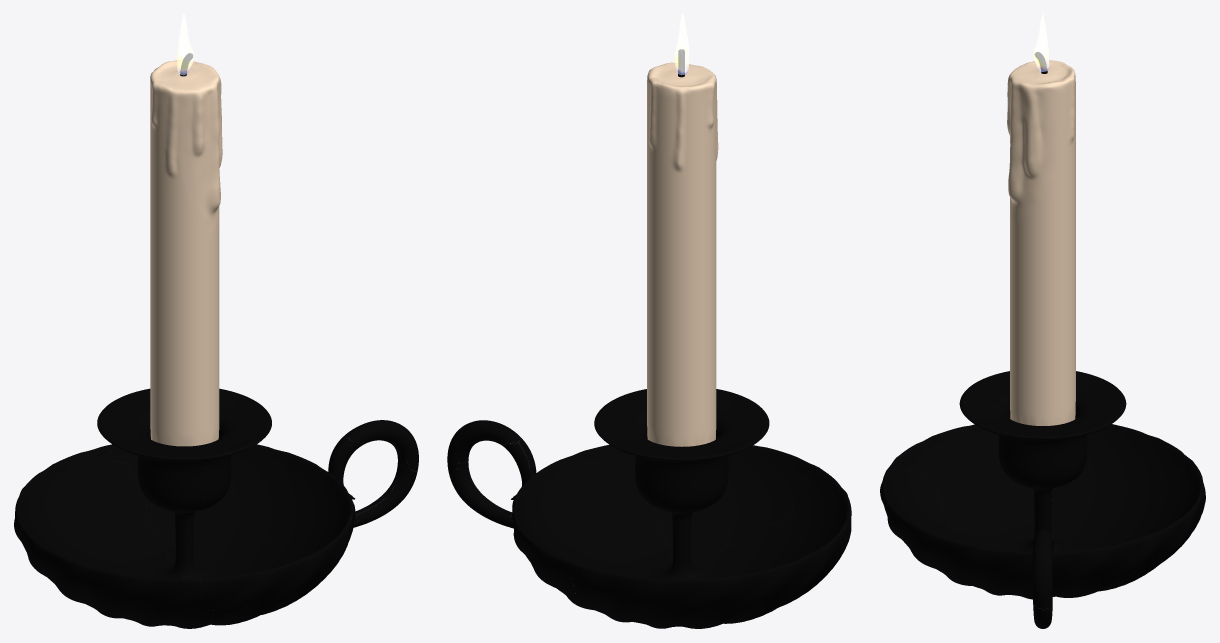
File: Candle.glb
The picture shows the model from 3 angles, left to right: view 1: azimuth 30°, elevation 25°; view 2: azimuth 150°, elevation 25°; view 3: azimuth 270°, elevation 25°; orthographic projection. The views are drawn at different scales.
Visible parts, largest first — view 1: Object_7, Object_3, Object_6, Object_4; view 2: Object_7, Object_3, Object_6, Object_4; view 3: Object_7, Object_3, Object_6, Object_4.
Boxes of the visible parts, left/top/right/bottom form: Object_7: left=14, top=388, right=355, bottom=628; Object_3: left=150, top=60, right=222, bottom=446; Object_6: left=328, top=420, right=418, bottom=527; Object_4: left=177, top=14, right=194, bottom=75; Object_7: left=512, top=389, right=851, bottom=628; Object_3: left=647, top=62, right=718, bottom=446; Object_6: left=447, top=420, right=536, bottom=528; Object_4: left=675, top=14, right=689, bottom=74; Object_7: left=880, top=371, right=1205, bottom=599; Object_3: left=1007, top=60, right=1075, bottom=425; Object_6: left=1032, top=529, right=1053, bottom=628; Object_4: left=1033, top=14, right=1049, bottom=71.
Size of the model in its own units: 1.14 by 1.67 by 0.8842.
Materials: 6 (5 with a texture image).
